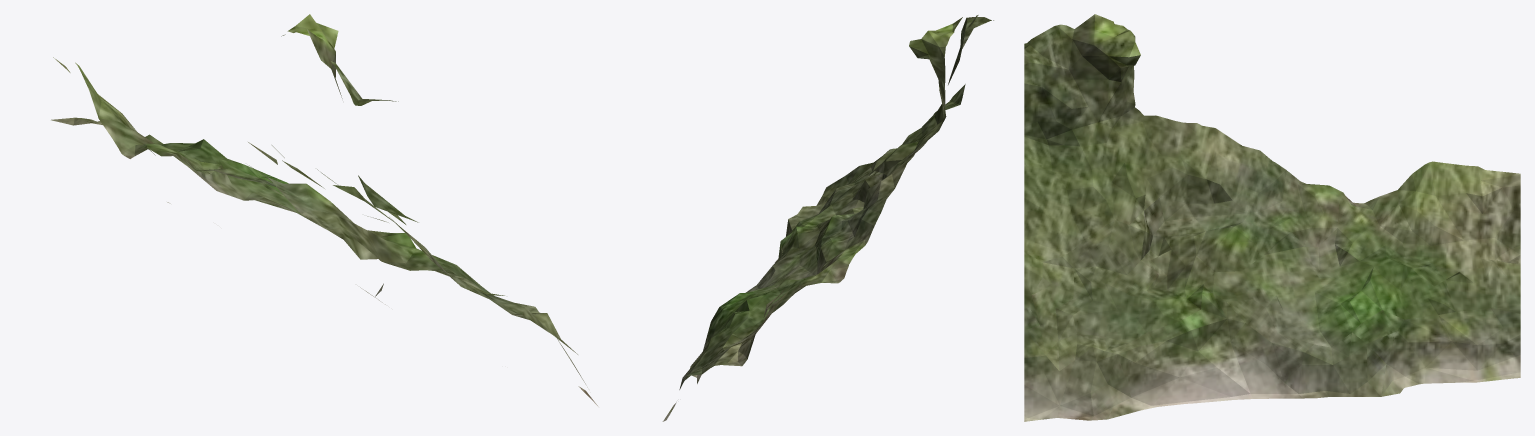
3 renders of one model, left to right at view 1: azimuth 30°, elevation 25°; view 2: azimuth 150°, elevation 25°; view 3: azimuth 270°, elevation 25°, orthographic. The views are drawn at different scales.
Size of the model in its own units: 1.39 by 2.03 by 2.95.
Materials: 2 (2 with a texture image).
